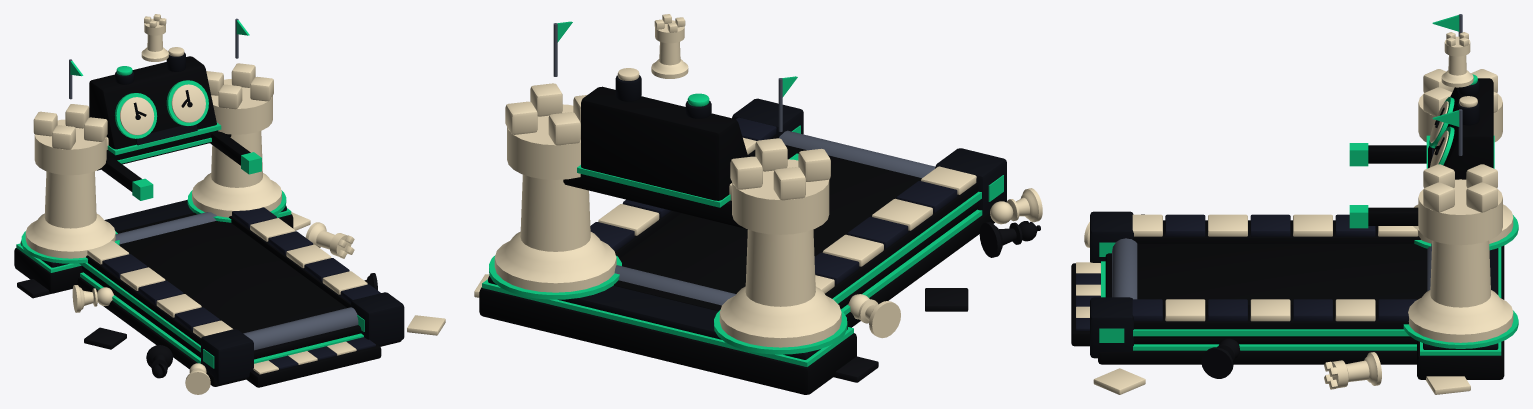
The model's file is CastleClimb.obj.
3 renders of one model, left to right at view 1: azimuth 30°, elevation 25°; view 2: azimuth 150°, elevation 25°; view 3: azimuth 270°, elevation 25°, orthographic. The views are drawn at different scales.
Visible parts, largest first — view 1: CastleClimb_Chess, CastleClimb_Body, CastleClimb_Belt, CastleClimb_Neon, CastleClimb_Panel, CastleClimb_Square, CastleClimb_Steel, CastleClimb_Spill, CastleClimb_Prop; view 2: CastleClimb_Chess, CastleClimb_Body, CastleClimb_Belt, CastleClimb_Neon, CastleClimb_Panel, CastleClimb_Square, CastleClimb_Steel, CastleClimb_Spill, CastleClimb_Prop; view 3: CastleClimb_Chess, CastleClimb_Body, CastleClimb_Belt, CastleClimb_Neon, CastleClimb_Square, CastleClimb_Panel, CastleClimb_Steel, CastleClimb_Prop, CastleClimb_Spill.
Boxes of the visible parts, bbox=[...] form: CastleClimb_Chess: bbox=[25, 47, 445, 394]; CastleClimb_Body: bbox=[14, 56, 401, 387]; CastleClimb_Belt: bbox=[116, 212, 346, 333]; CastleClimb_Neon: bbox=[16, 20, 364, 368]; CastleClimb_Panel: bbox=[20, 52, 404, 384]; CastleClimb_Square: bbox=[102, 207, 380, 369]; CastleClimb_Steel: bbox=[69, 18, 358, 350]; CastleClimb_Spill: bbox=[17, 273, 377, 378]; CastleClimb_Prop: bbox=[141, 14, 168, 61]; CastleClimb_Chess: bbox=[474, 68, 1042, 347]; CastleClimb_Body: bbox=[479, 86, 994, 394]; CastleClimb_Belt: bbox=[613, 145, 921, 311]; CastleClimb_Neon: bbox=[482, 21, 1003, 366]; CastleClimb_Panel: bbox=[488, 75, 1006, 359]; CastleClimb_Square: bbox=[590, 117, 957, 284]; CastleClimb_Steel: bbox=[553, 23, 935, 305]; CastleClimb_Spill: bbox=[833, 221, 1040, 382]; CastleClimb_Prop: bbox=[651, 14, 688, 78]; CastleClimb_Chess: bbox=[1076, 69, 1513, 394]; CastleClimb_Body: bbox=[1071, 78, 1504, 379]; CastleClimb_Belt: bbox=[1137, 244, 1427, 304]; CastleClimb_Neon: bbox=[1099, 15, 1518, 355]; CastleClimb_Square: bbox=[1076, 214, 1417, 330]; CastleClimb_Panel: bbox=[1090, 80, 1498, 358]; CastleClimb_Steel: bbox=[1112, 14, 1462, 299]; CastleClimb_Prop: bbox=[1441, 32, 1473, 87]; CastleClimb_Spill: bbox=[1141, 214, 1239, 378].
Bounding box in the file's own units: 12.64 × 9.75 × 14.31.
